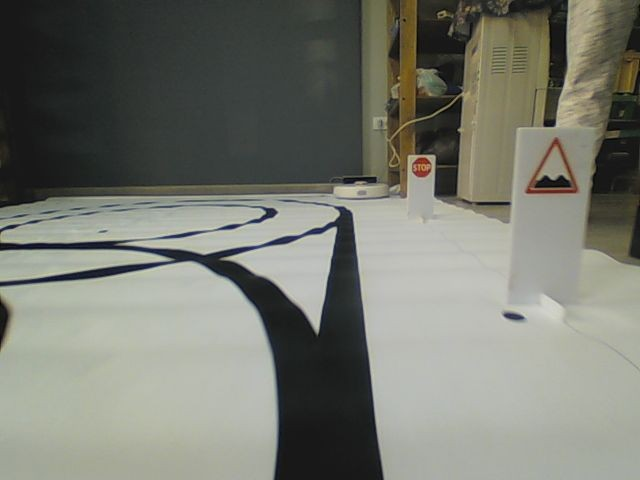Stop: (410, 156, 433, 179)
